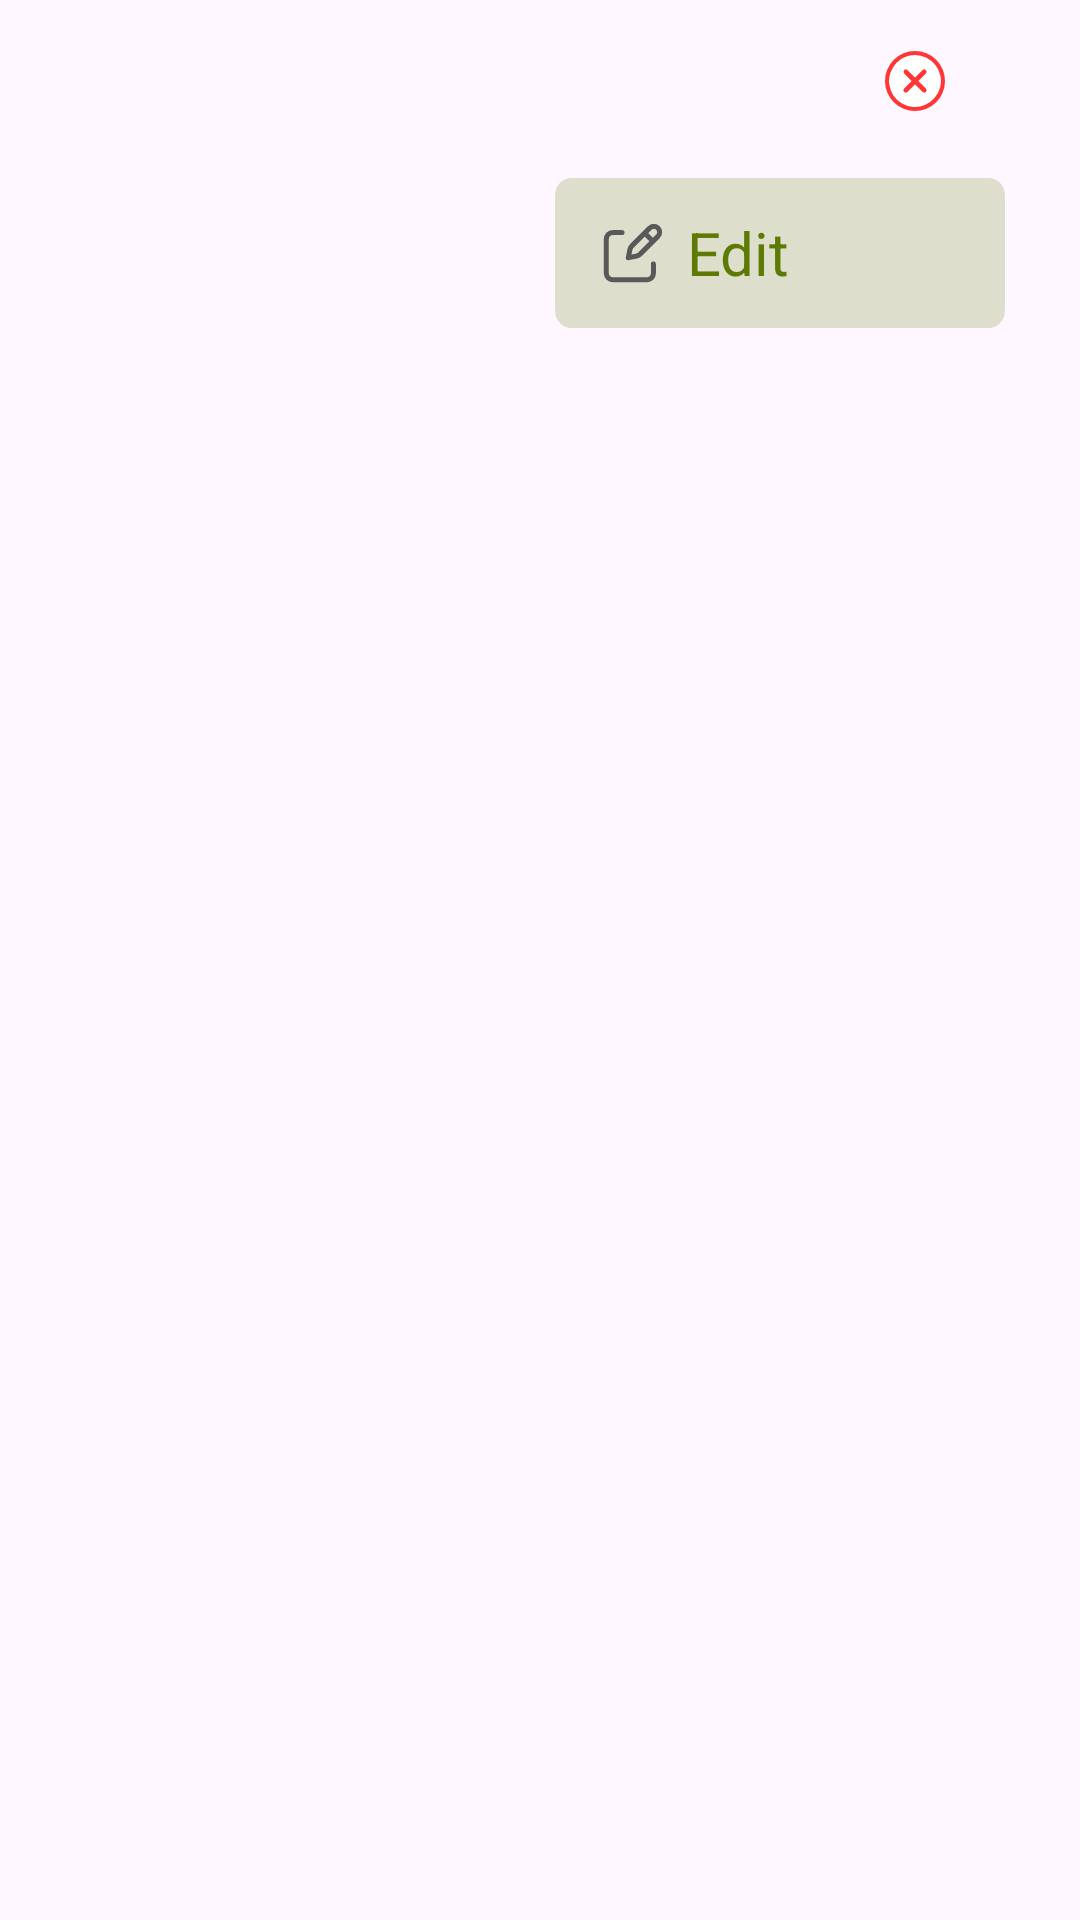

Screen size 1080×1920. Icon name, then its center in pixels as (x,y):
close: (915,81)
